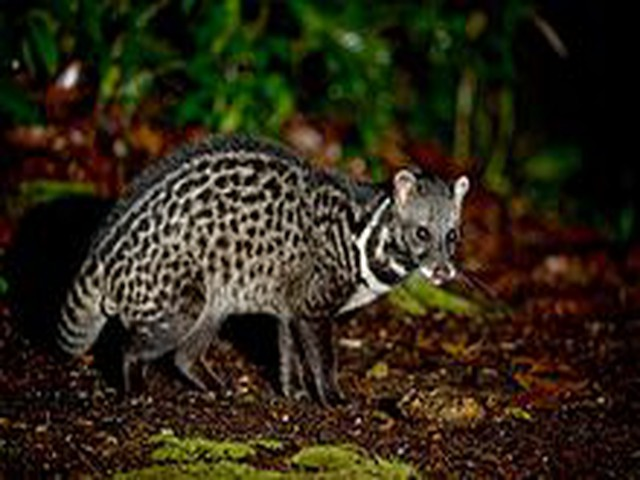civet: (50, 129, 474, 400)
